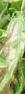Tomato leaf mosaic virus: (0, 19, 25, 94)
